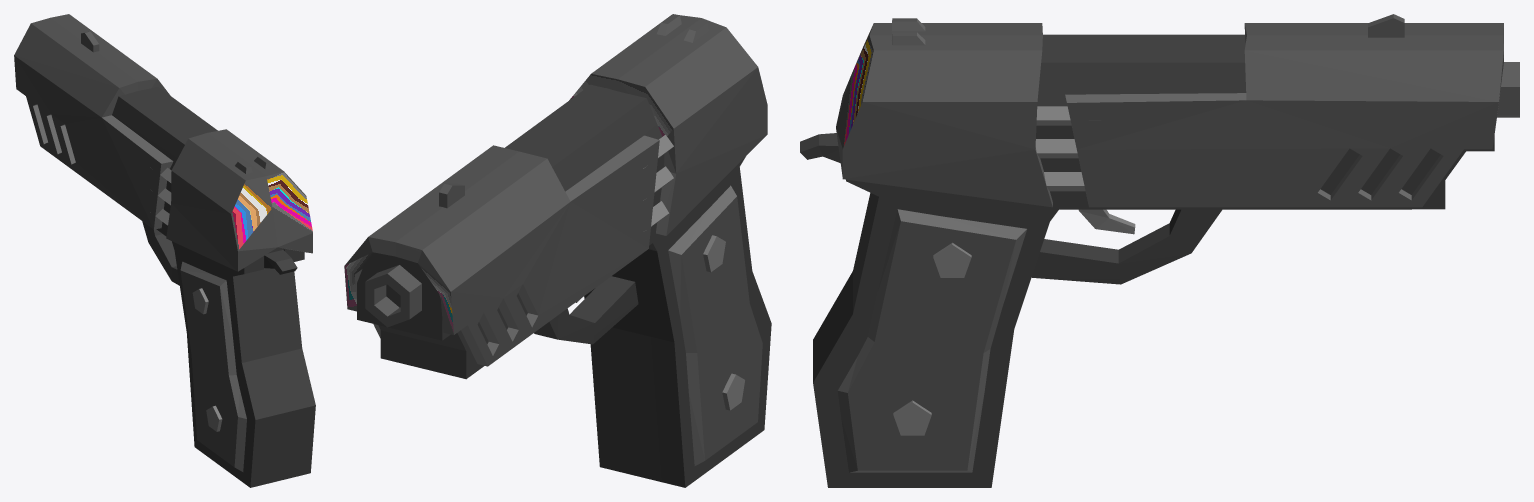
Rendered from pistol_1.glb.
3 views of the same model, side by side, from view 1: azimuth 30°, elevation 25°; view 2: azimuth 150°, elevation 25°; view 3: azimuth 270°, elevation 25° (orthographic). The views are drawn at different scales.
Parts seen in each view (by area): view 1: pistol_1; view 2: pistol_1; view 3: pistol_1.
Part boxes in pixels (box(x1,y1,x2,y2)): pistol_1: box(14, 14, 315, 487); pistol_1: box(344, 14, 771, 487); pistol_1: box(800, 14, 1519, 487).
Bounding box in the file's own units: 0.2427 × 0.9191 × 1.32.
1 material, 1 textured.
